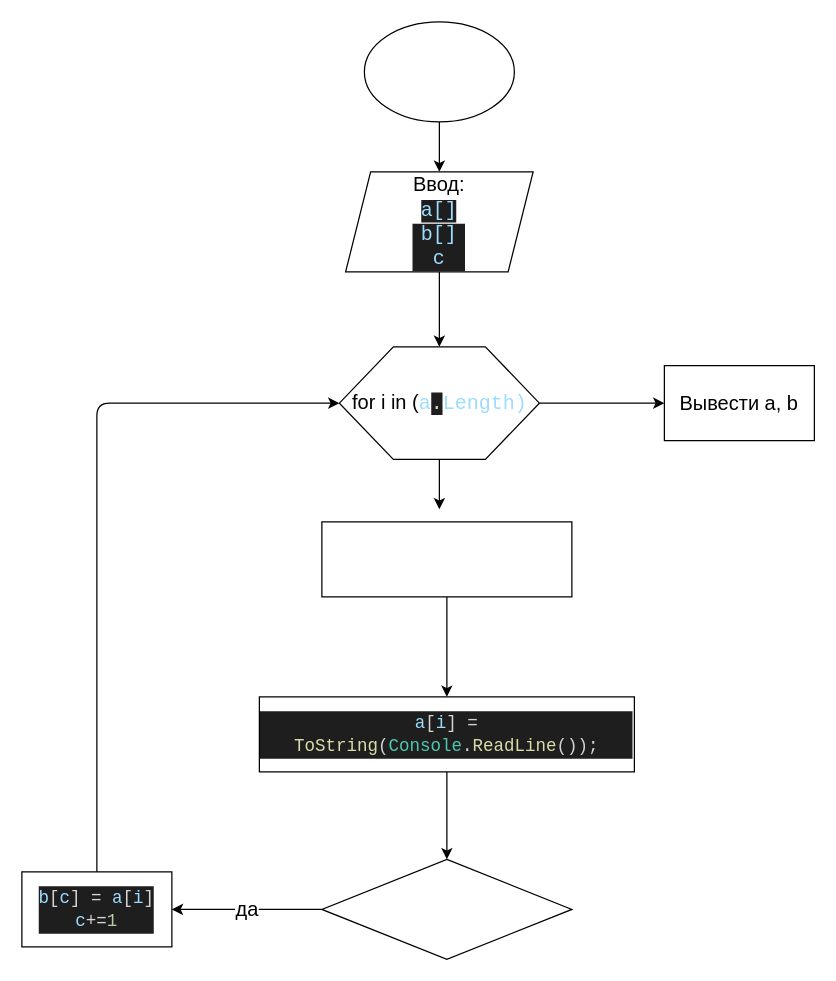
Some shapes in this 836 by 981 pixel diagram are drawn without their labels. Each missing label, with the centre of its shape:
a [ i ]. Length <= 3: the point at 446,908
WriteLine("Ведите строку"): the point at 446,559
Начало: the point at 438,71
